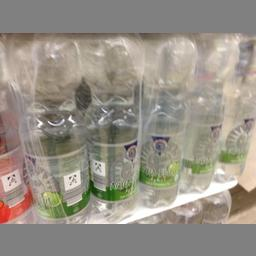water: (4, 33, 90, 222), (79, 34, 144, 220), (138, 33, 193, 206), (178, 33, 236, 193)
